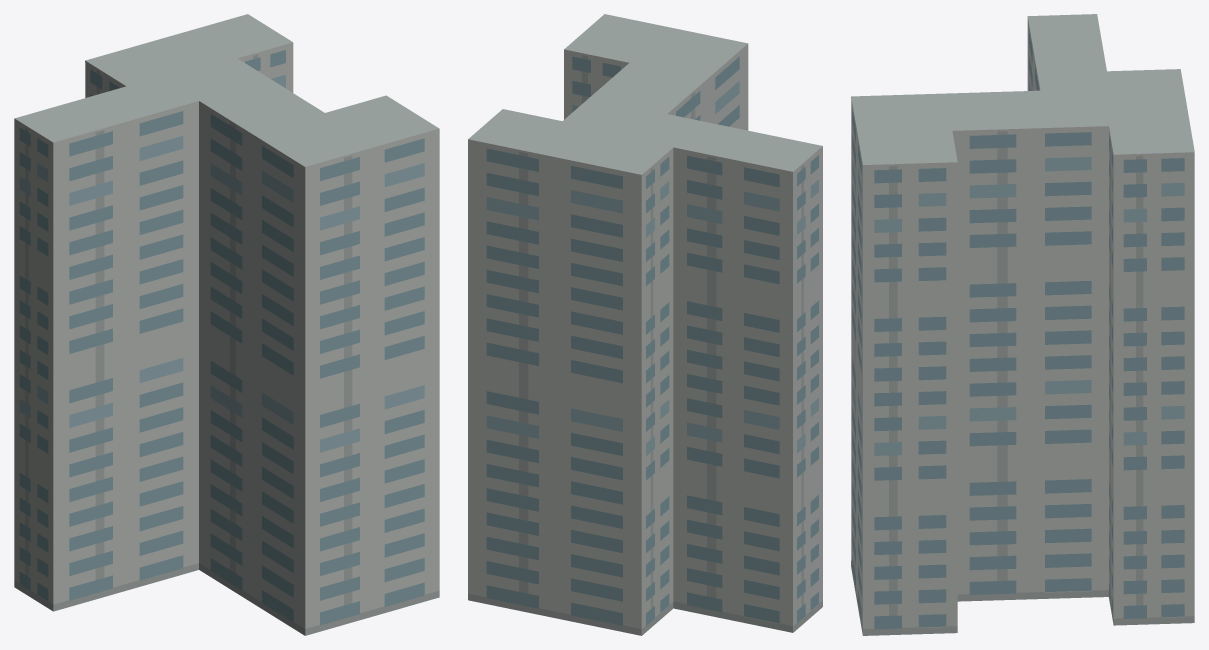
Rendered from residential-486d1108-e169-4c4b-b98c-d1b7da420639.glb.
The picture shows the model from 3 angles, left to right: view 1: azimuth 30°, elevation 25°; view 2: azimuth 150°, elevation 25°; view 3: azimuth 270°, elevation 25°; orthographic projection. The views are drawn at different scales.
Visible parts, largest first — view 1: residential-486d1108-e169-4c4b-b98c-d1b7da420639.tmp; view 2: residential-486d1108-e169-4c4b-b98c-d1b7da420639.tmp; view 3: residential-486d1108-e169-4c4b-b98c-d1b7da420639.tmp.
Part boxes in pixels (<box>): residential-486d1108-e169-4c4b-b98c-d1b7da420639.tmp: <box>14,14,439,635</box>; residential-486d1108-e169-4c4b-b98c-d1b7da420639.tmp: <box>468,14,822,635</box>; residential-486d1108-e169-4c4b-b98c-d1b7da420639.tmp: <box>851,14,1194,635</box>.
Bounding box in the file's own units: 41.3 × 60 × 39.7.
